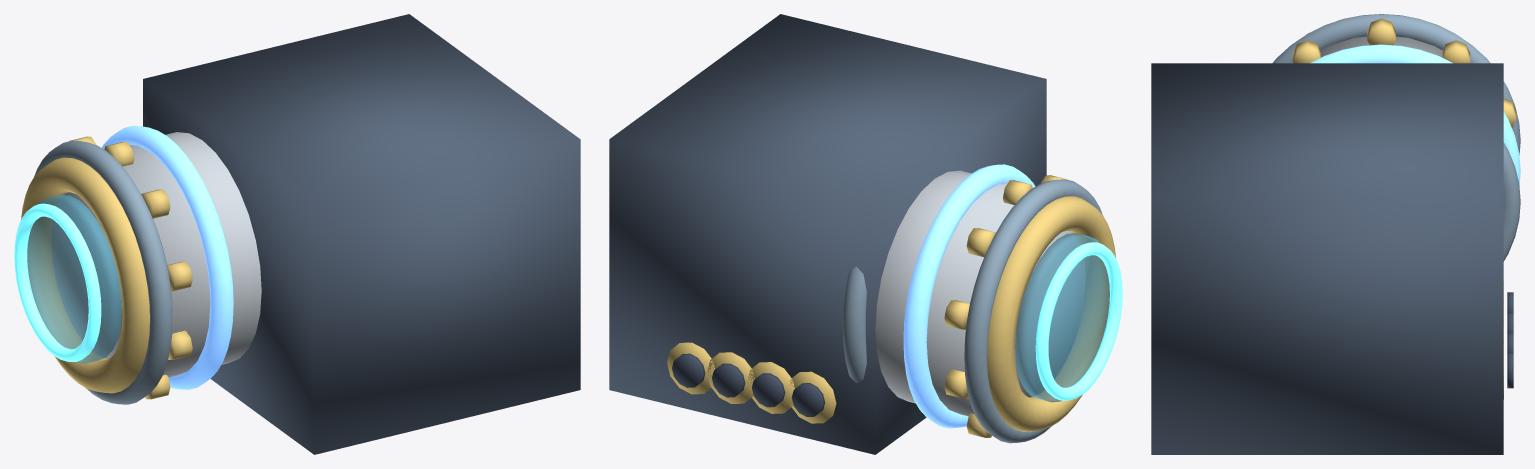
The model's file is L85_38_PrimaryScanningLiDAR_Fitted.fbx.
3 renders of one model, left to right at view 1: azimuth 30°, elevation 25°; view 2: azimuth 150°, elevation 25°; view 3: azimuth 270°, elevation 25°, orthographic. The views are drawn at different scales.
Visible parts, largest first — view 1: L85_PrimaryScanningLiDAR_ANIM_LIDAR_A_SCANNER__tint1A2434, L85_PrimaryScanningLiDAR_ANIM_LIDAR_A_SCANNER__tintA8B8C7, L85_PrimaryScanningLiDAR_ANIM_LIDAR_A_SCANNER__tintF7B83D, L85_PrimaryScanningLiDAR_ANIM_LIDAR_A_SCANNER__glass, L85_PrimaryScanningLiDAR_ANIM_LIDAR_A_SCANNER__tint3370F0, L85_PrimaryScanningLiDAR_ANIM_LIDAR_A_SCANNER__tint527391, L85_PrimaryScanningLiDAR_ANIM_LIDAR_A_SCANNER__tint2ED9FA; view 2: L85_PrimaryScanningLiDAR_ANIM_LIDAR_A_SCANNER__tint1A2434, L85_PrimaryScanningLiDAR_ANIM_LIDAR_A_SCANNER__tintA8B8C7, L85_PrimaryScanningLiDAR_ANIM_LIDAR_A_SCANNER__tintF7B83D, L85_PrimaryScanningLiDAR_ANIM_LIDAR_A_SCANNER__tint527391, L85_PrimaryScanningLiDAR_ANIM_LIDAR_A_SCANNER__glass, L85_PrimaryScanningLiDAR_ANIM_LIDAR_A_SCANNER__tint3370F0, L85_PrimaryScanningLiDAR_ANIM_LIDAR_A_SCANNER__tint2ED9FA, L85_PrimaryScanningLiDAR_Static__tintF7B83D, L85_PrimaryScanningLiDAR_Static__tint111724; view 3: L85_PrimaryScanningLiDAR_ANIM_LIDAR_A_SCANNER__tint1A2434, L85_PrimaryScanningLiDAR_ANIM_LIDAR_A_SCANNER__tint527391, L85_PrimaryScanningLiDAR_ANIM_LIDAR_A_SCANNER__tint3370F0, L85_PrimaryScanningLiDAR_ANIM_LIDAR_A_SCANNER__tintF7B83D, L85_PrimaryScanningLiDAR_ANIM_LIDAR_A_SCANNER__tintA8B8C7, L85_PrimaryScanningLiDAR_Static__tint111724.
Boxes of the visible parts, x1,y1,x2,y2 form: L85_PrimaryScanningLiDAR_ANIM_LIDAR_A_SCANNER__tint1A2434: (143,14,580,454); L85_PrimaryScanningLiDAR_ANIM_LIDAR_A_SCANNER__tintA8B8C7: (51,132,261,377); L85_PrimaryScanningLiDAR_ANIM_LIDAR_A_SCANNER__tintF7B83D: (21,136,192,399); L85_PrimaryScanningLiDAR_ANIM_LIDAR_A_SCANNER__glass: (27,194,122,363); L85_PrimaryScanningLiDAR_ANIM_LIDAR_A_SCANNER__tint3370F0: (102,126,233,389); L85_PrimaryScanningLiDAR_ANIM_LIDAR_A_SCANNER__tint527391: (34,140,172,404); L85_PrimaryScanningLiDAR_ANIM_LIDAR_A_SCANNER__tint2ED9FA: (14,203,101,361); L85_PrimaryScanningLiDAR_ANIM_LIDAR_A_SCANNER__tint1A2434: (609,14,1046,454); L85_PrimaryScanningLiDAR_ANIM_LIDAR_A_SCANNER__tintA8B8C7: (875,170,1085,416); L85_PrimaryScanningLiDAR_ANIM_LIDAR_A_SCANNER__tintF7B83D: (944,175,1115,437); L85_PrimaryScanningLiDAR_ANIM_LIDAR_A_SCANNER__tint527391: (842,179,1102,443); L85_PrimaryScanningLiDAR_ANIM_LIDAR_A_SCANNER__glass: (1015,233,1109,402); L85_PrimaryScanningLiDAR_ANIM_LIDAR_A_SCANNER__tint3370F0: (903,164,1035,428); L85_PrimaryScanningLiDAR_ANIM_LIDAR_A_SCANNER__tint2ED9FA: (1035,242,1122,400); L85_PrimaryScanningLiDAR_Static__tintF7B83D: (667,342,836,423); L85_PrimaryScanningLiDAR_Static__tint111724: (672,353,824,416); L85_PrimaryScanningLiDAR_ANIM_LIDAR_A_SCANNER__tint1A2434: (1151,63,1503,454); L85_PrimaryScanningLiDAR_ANIM_LIDAR_A_SCANNER__tint527391: (1272,14,1520,261); L85_PrimaryScanningLiDAR_ANIM_LIDAR_A_SCANNER__tint3370F0: (1310,44,1520,185); L85_PrimaryScanningLiDAR_ANIM_LIDAR_A_SCANNER__tintF7B83D: (1292,18,1516,127); L85_PrimaryScanningLiDAR_ANIM_LIDAR_A_SCANNER__tintA8B8C7: (1320,36,1442,57); L85_PrimaryScanningLiDAR_Static__tint111724: (1507,292,1513,388).
Bounding box in the file's own units: 10.51 × 6.05 × 7.85.
